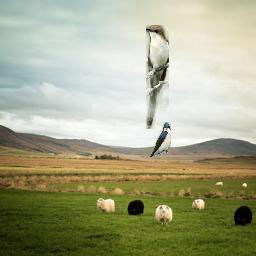Cuckoo: (147, 25, 170, 129)
Swallow: (149, 123, 171, 158)
